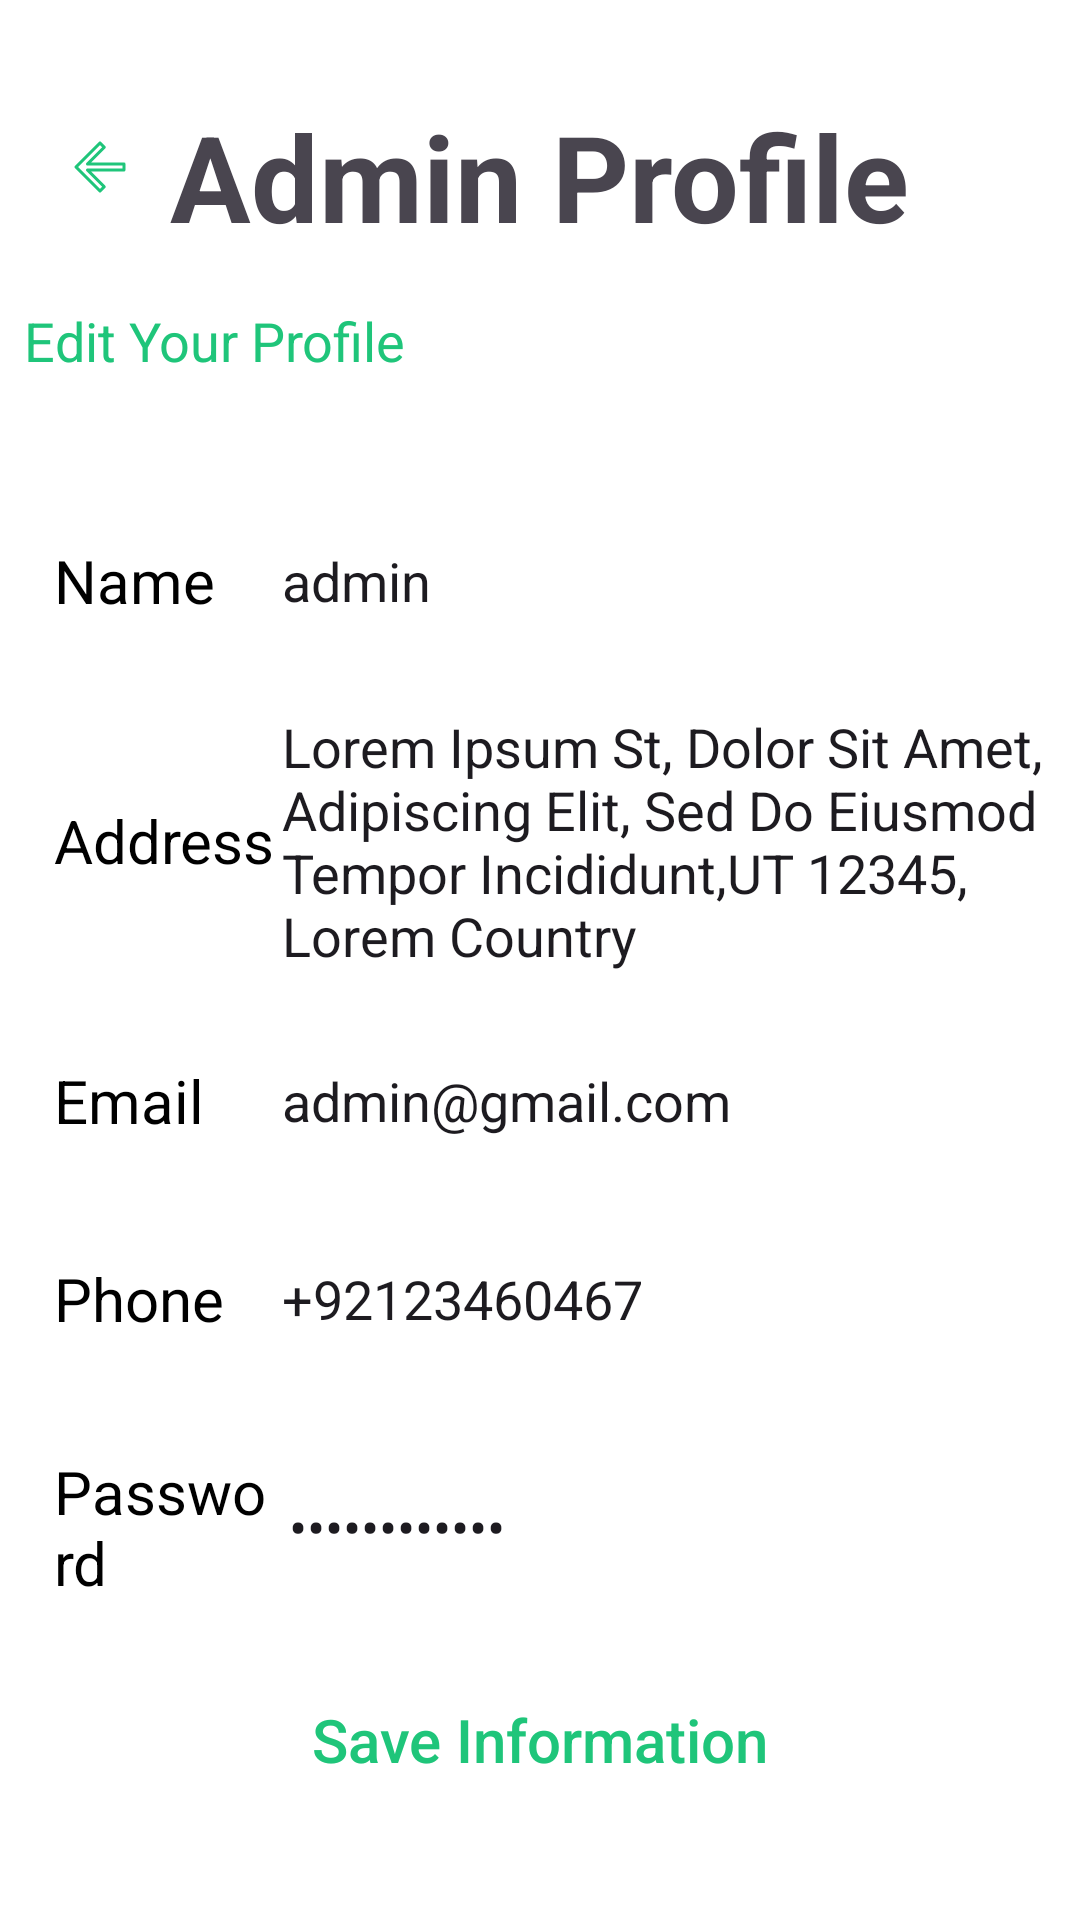

Named icons in this screenshot (1080*1920) and their centers, [x,y]:
arrow back: [100,167]
